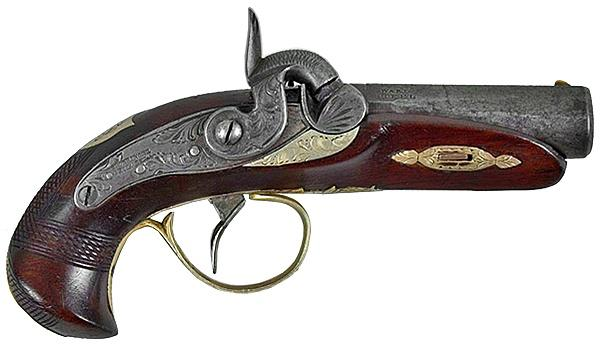gun: (2, 19, 597, 339)
